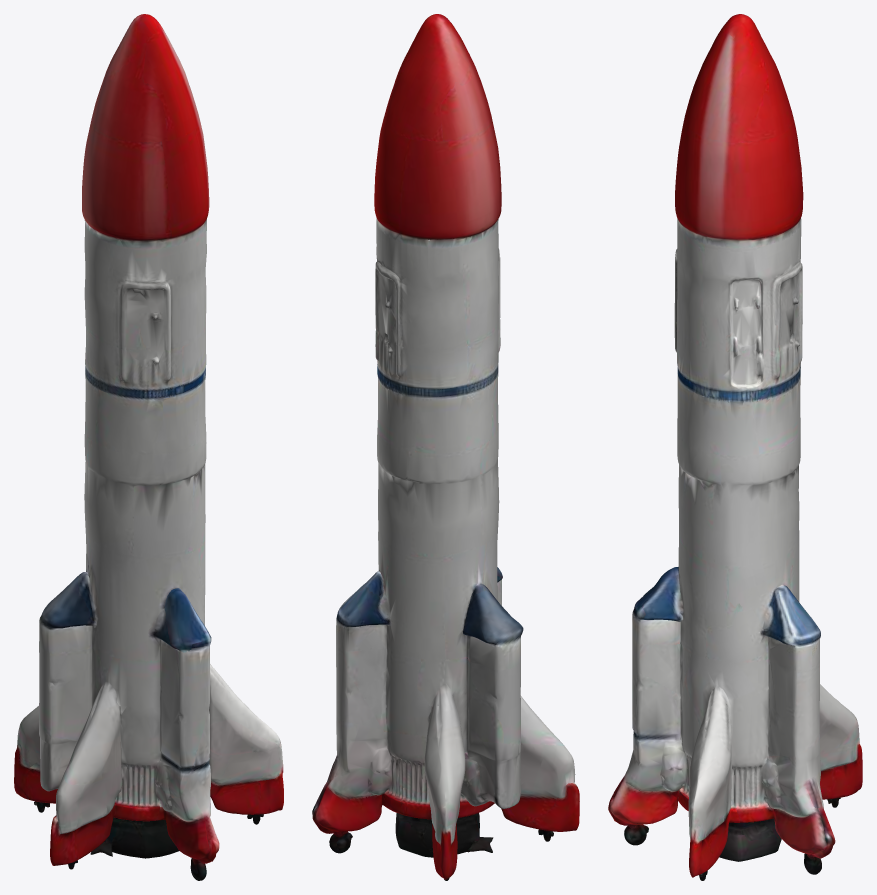
File: rocket.glb
The picture shows the model from 3 angles, left to right: view 1: azimuth 30°, elevation 25°; view 2: azimuth 150°, elevation 25°; view 3: azimuth 270°, elevation 25°; orthographic projection.
Visible parts, largest first — view 1: tripo_node_403d2f6d-0f73-43e2-aac4-33cb703afb0c; view 2: tripo_node_403d2f6d-0f73-43e2-aac4-33cb703afb0c; view 3: tripo_node_403d2f6d-0f73-43e2-aac4-33cb703afb0c.
Boxes of the visible parts, x1,y1,x2,y2 form: tripo_node_403d2f6d-0f73-43e2-aac4-33cb703afb0c: (14, 14, 283, 880); tripo_node_403d2f6d-0f73-43e2-aac4-33cb703afb0c: (312, 14, 579, 880); tripo_node_403d2f6d-0f73-43e2-aac4-33cb703afb0c: (608, 14, 862, 880).
Size of the model in its own units: 0.2892 by 0.9786 by 0.2715.
1 material, 1 textured.
